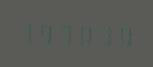nine: (36, 18, 54, 46)
seven: (17, 17, 35, 45), (56, 19, 74, 46)
three: (94, 20, 112, 48)
zero: (75, 19, 93, 47), (113, 21, 131, 48)
